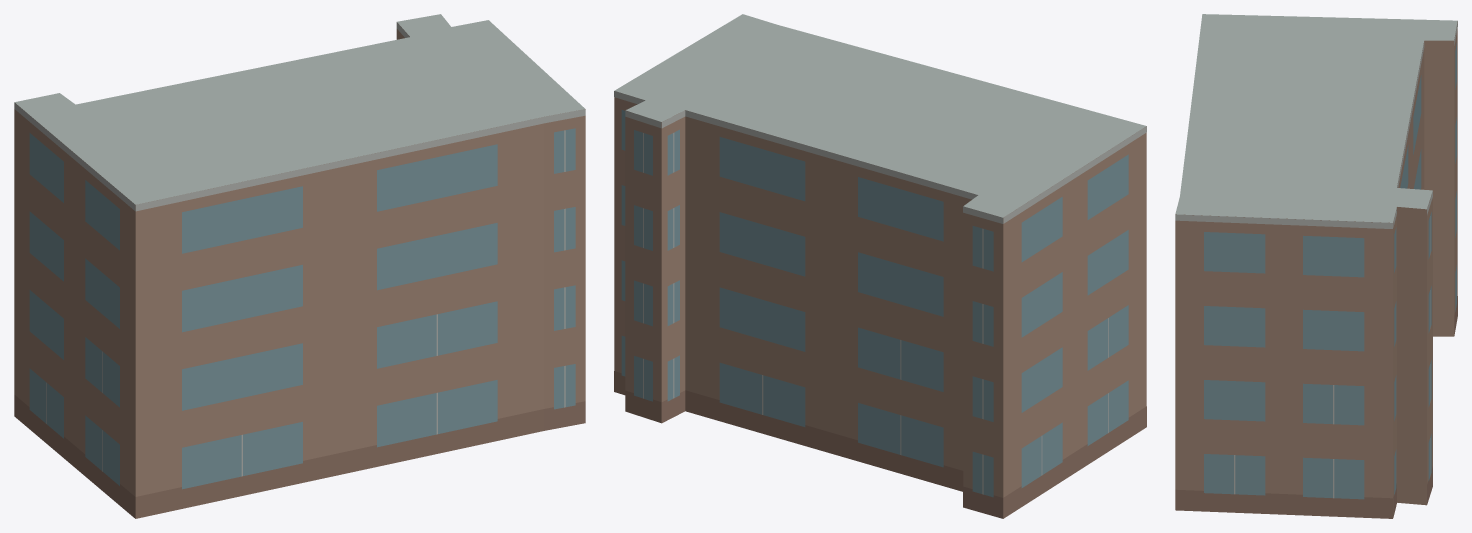
The model's file is survey-upis-32755385.glb.
3 renders of one model, left to right at view 1: azimuth 30°, elevation 25°; view 2: azimuth 150°, elevation 25°; view 3: azimuth 270°, elevation 25°, orthographic. The views are drawn at different scales.
Parts seen in each view (by area): view 1: survey-upis-32755385.tmp; view 2: survey-upis-32755385.tmp; view 3: survey-upis-32755385.tmp.
Part boxes in pixels (<box>): survey-upis-32755385.tmp: <box>14,14,585,518</box>; survey-upis-32755385.tmp: <box>614,14,1146,518</box>; survey-upis-32755385.tmp: <box>1175,14,1457,518</box>.
Size of the model in its own units: 17.49 by 11.55 by 10.
